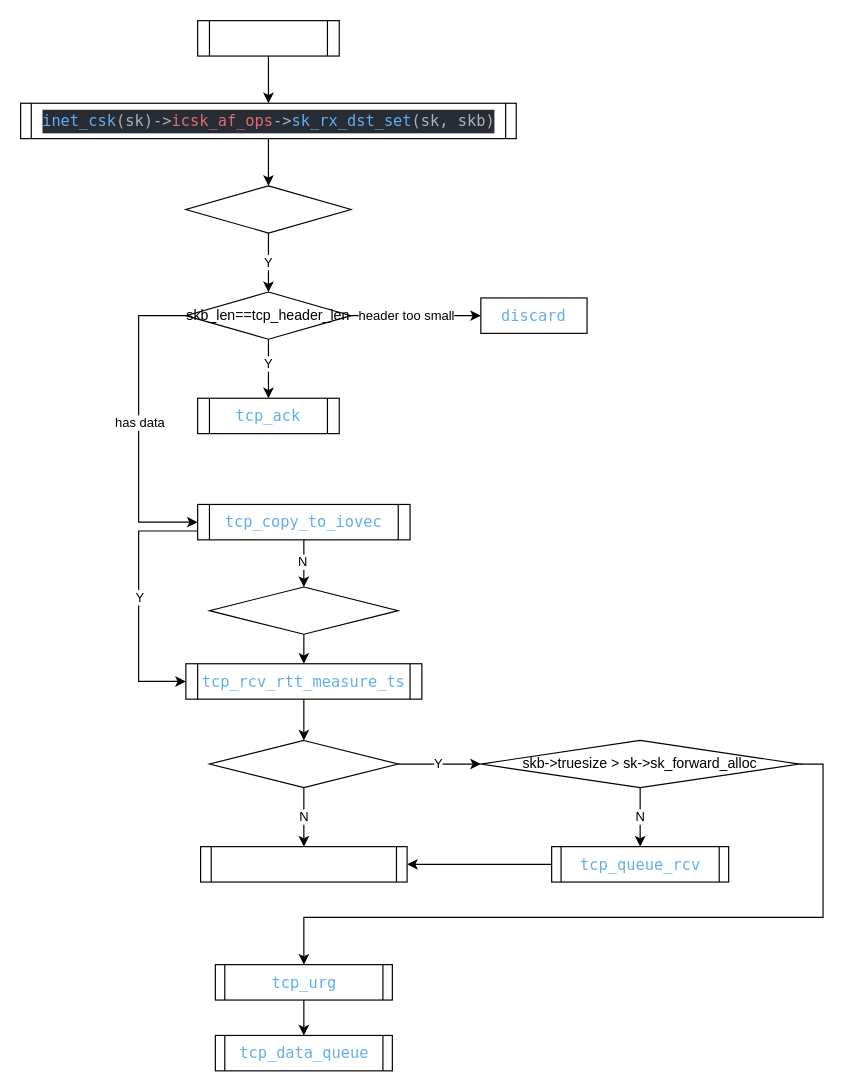
Some shapes in this 853 by 1092 pixel diagram are drawn without their labels. The shapes that lost their labels are listed below. From the top down, each one's box as (x1, y1, x2, y2) in pixels, then its label:
(196, 19, 339, 56): tcp_sk (sk)
(185, 185, 351, 233): skb->seq==rcv_nxt
(208, 586, 398, 634): tp->rcv_nxt==tp->rcv_wup
(208, 739, 398, 788): ! eaten
(199, 845, 407, 882): tcp_event_data_recv
